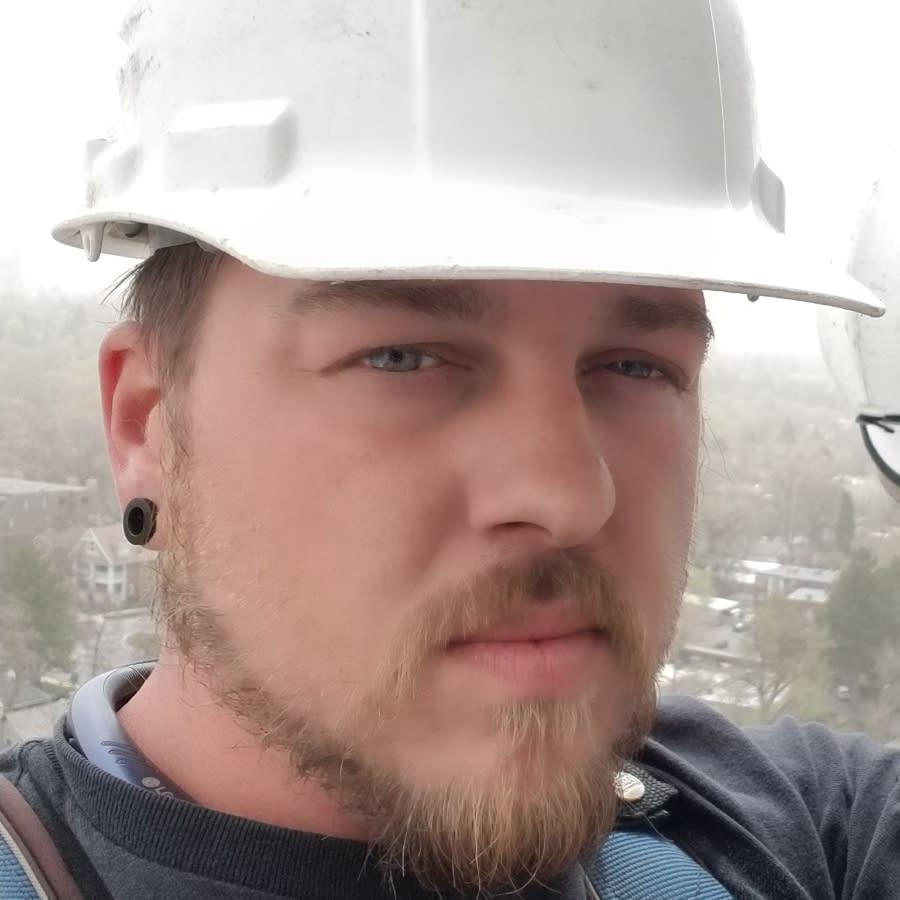helmet: (50, 1, 887, 314)
